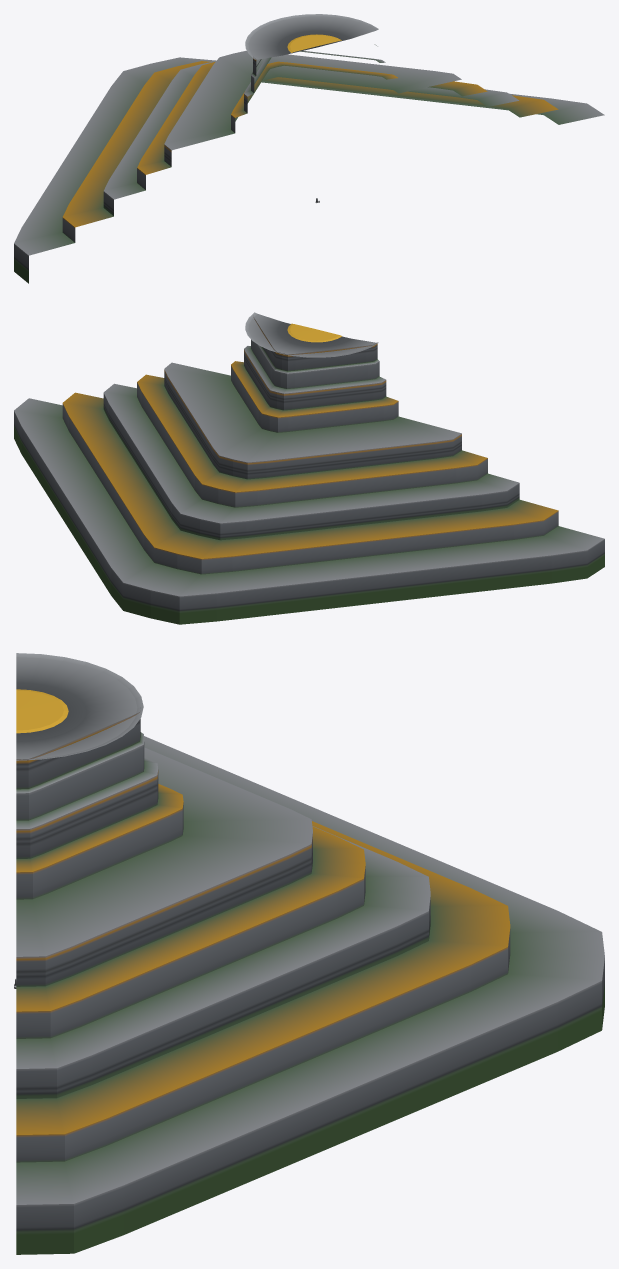
Rendered from temple-s1-C4P0FINa.glb.
3 renders of one model, top to bottom at view 1: azimuth 30°, elevation 25°; view 2: azimuth 150°, elevation 25°; view 3: azimuth 270°, elevation 25°, orthographic. The views are drawn at different scales.
Parts seen in each view (by area): view 1: sc_landmark_0; view 2: sc_landmark_0; view 3: sc_landmark_0.
Part boxes in pixels (x1,y1,x2,y2): sc_landmark_0: (14, 14, 604, 283); sc_landmark_0: (14, 312, 604, 624); sc_landmark_0: (16, 653, 604, 1254).
Size of the model in its own units: 758 by 213 by 381.
